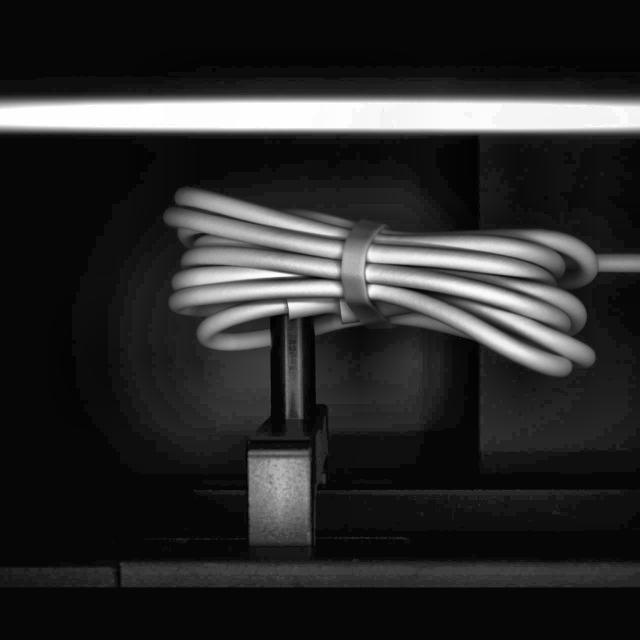Cable: (158, 182, 640, 386)
